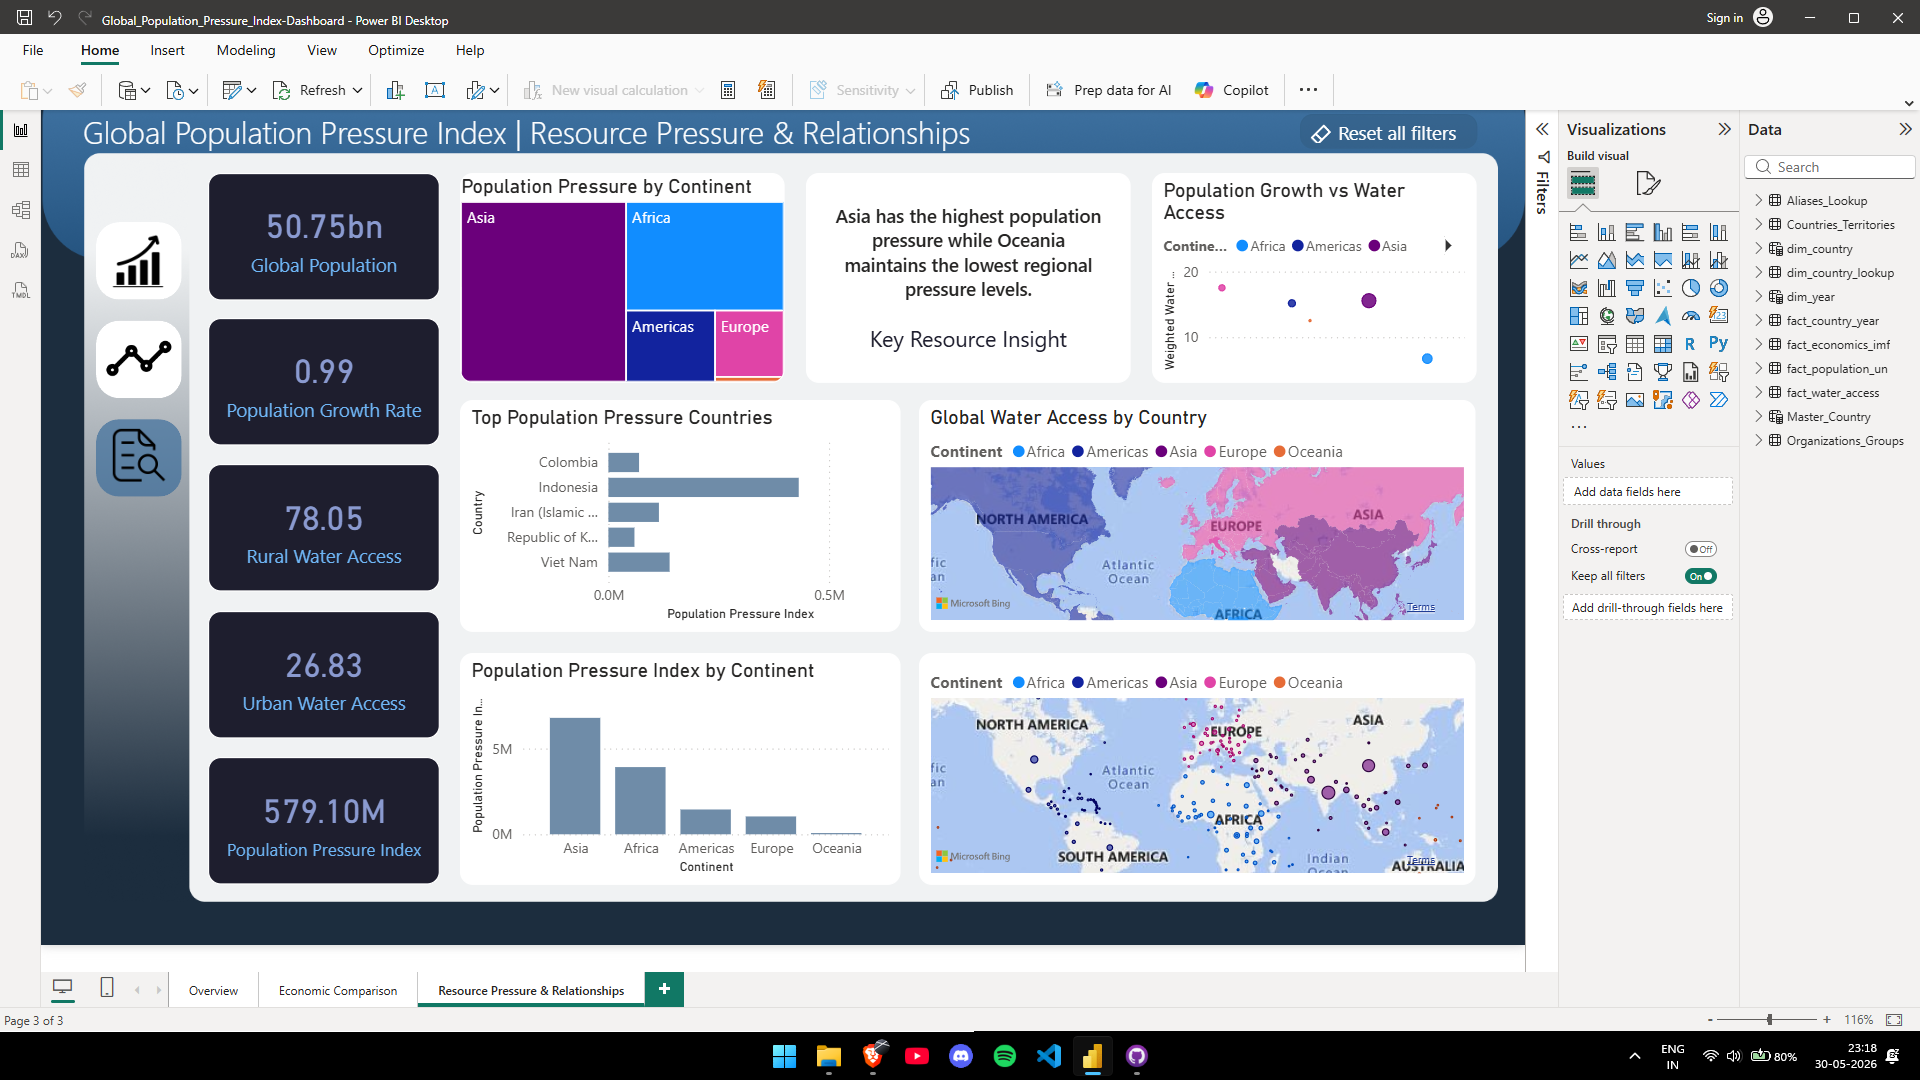

The page's visual inventory and layout, read from the dashboard file:
{"tool":"powerbi","page":{"name":"Resource Pressure & Relationships","canvas":[1280,720],"ordinal":2},"visuals":[{"type":"pageNavigator","box":[47.4,96.6,74.2,239.8],"z":0},{"type":"textbox","box":[36,0,798.5,44.7],"z":1000},{"type":"image","box":[47.3,180,74.5,68.2],"z":2000},{"type":"image","box":[55.5,107.3,57.3,47.3],"z":3000},{"type":"image","box":[58.2,259.1,51.8,77.3],"z":4000},{"type":"card","fields":{"Values":["fact_water_access.Urban Water Access"]},"box":[144,429.4,200.1,110],"z":5000},{"type":"card","fields":{"Values":["fact_population_un.Pressure Index"]},"box":[144,555.5,200.1,110.4],"z":6000},{"type":"card","fields":{"Values":["fact_population_un.Total Population"]},"box":[144,51.8,200.1,109.5],"z":7000},{"type":"card","fields":{"Values":["fact_population_un.Population Growth Rate"]},"box":[144,177.4,200.1,109.5],"z":8000},{"type":"card","fields":{"Values":["fact_water_access.Rural Water Access"]},"box":[144,303,200.1,110.4],"z":9000},{"type":"clusteredBarChart","title":"Top Population Pressure Countries","fields":{"Category":["Master_Country.Country","fact_economics_imf.year"],"Y":["fact_population_un.Pressure Index"]},"box":[361.4,51.8,278.6,218.2],"z":10000},{"type":"scatterChart","title":"Population Growth vs Water Access","fields":{"X":["fact_population_un.Population Growth Rate"],"Y":["fact_water_access.Weighted Water Access"],"Size":["Sum(fact_population_un.population)"],"Series":["Countries_Territories.Continent"]},"box":[888.4,51.8,350.2,218.2],"z":11000},{"type":"scatterChart","title":"Regional Water Access Distribution","fields":{"Category":["fact_water_access.water_urban","fact_water_access.water_rural"],"Series":["Countries_Territories.Continent"]},"box":[888.4,282.9,350.2,185.4],"z":12000},{"type":"treemap","title":"Population Pressure by Country","fields":{"Values":["fact_population_un.Population Pressure Index"],"Group":["Countries_Territories.Continent"]},"box":[361.4,282.9,278.6,185.4],"z":13000},{"type":"clusteredColumnChart","fields":{"Category":["Countries_Territories.Continent"],"Y":["fact_population_un.Pressure Index"]},"box":[362.3,479.8,397.1,186.1],"z":14000},{"type":"map","title":"Global Water Access by Country","fields":{"Category":["Master_Country.Country"],"Size":["Sum(fact_population_un.population)"],"Series":["Countries_Territories.Continent"]},"box":[770.4,479.8,467.8,185.1],"z":15000},{"type":"actionButton","box":[1086.2,3.3,152.9,30.4],"z":16000},{"type":"cardVisual","box":[640,52,195,218],"z":16001},{"type":"pivotTable","fields":{"Rows":["Master_Country.Country"],"Values":["fact_population_un.Population Pressure Index"],"Columns":["fact_population_un.year"]},"box":[655.6,283,222.7,185.8],"z":16002}]}

Visuals, with their boxes on the page's 1280x720 design canvas (x1, y1, x2, y2). These are canvas units, not pixel positions in the 1920x1080 screenshot, which may show the page scaled, cropped or inside an application window:
pageNavigator: [x1=47, y1=97, x2=122, y2=336]
textbox: [x1=36, y1=0, x2=834, y2=45]
image: [x1=47, y1=180, x2=122, y2=248]
image: [x1=56, y1=107, x2=113, y2=155]
image: [x1=58, y1=259, x2=110, y2=336]
card - fact_water_access.Urban Water Access: [x1=144, y1=429, x2=344, y2=539]
card - fact_population_un.Pressure Index: [x1=144, y1=556, x2=344, y2=666]
card - fact_population_un.Total Population: [x1=144, y1=52, x2=344, y2=161]
card - fact_population_un.Population Growth Rate: [x1=144, y1=177, x2=344, y2=287]
card - fact_water_access.Rural Water Access: [x1=144, y1=303, x2=344, y2=413]
"Top Population Pressure Countries" clusteredBarChart: [x1=361, y1=52, x2=640, y2=270]
"Population Growth vs Water Access" scatterChart: [x1=888, y1=52, x2=1239, y2=270]
"Regional Water Access Distribution" scatterChart: [x1=888, y1=283, x2=1239, y2=468]
"Population Pressure by Country" treemap: [x1=361, y1=283, x2=640, y2=468]
clusteredColumnChart - Countries_Territories.Continent x fact_population_un.Pressure Index: [x1=362, y1=480, x2=759, y2=666]
"Global Water Access by Country" map: [x1=770, y1=480, x2=1238, y2=665]
actionButton: [x1=1086, y1=3, x2=1239, y2=34]
cardVisual: [x1=640, y1=52, x2=835, y2=270]
pivotTable - Master_Country.Country x fact_population_un.Population Pressure Index: [x1=656, y1=283, x2=878, y2=469]
